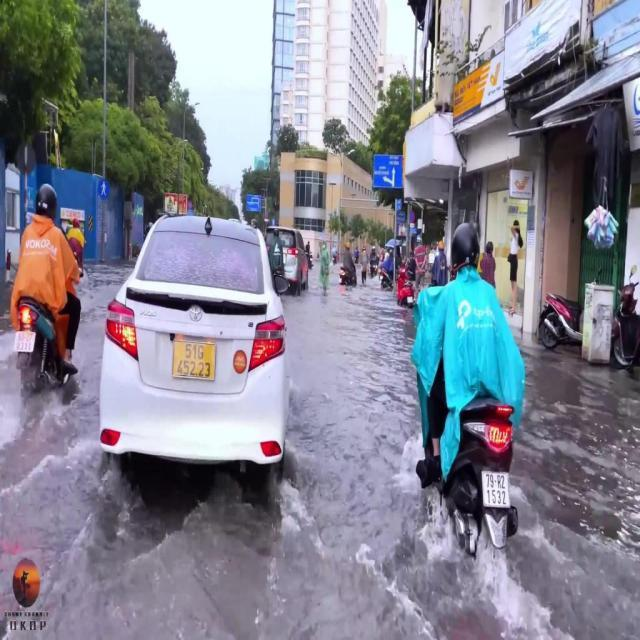407a-duong-mot-chieu: (272, 218, 276, 226)
